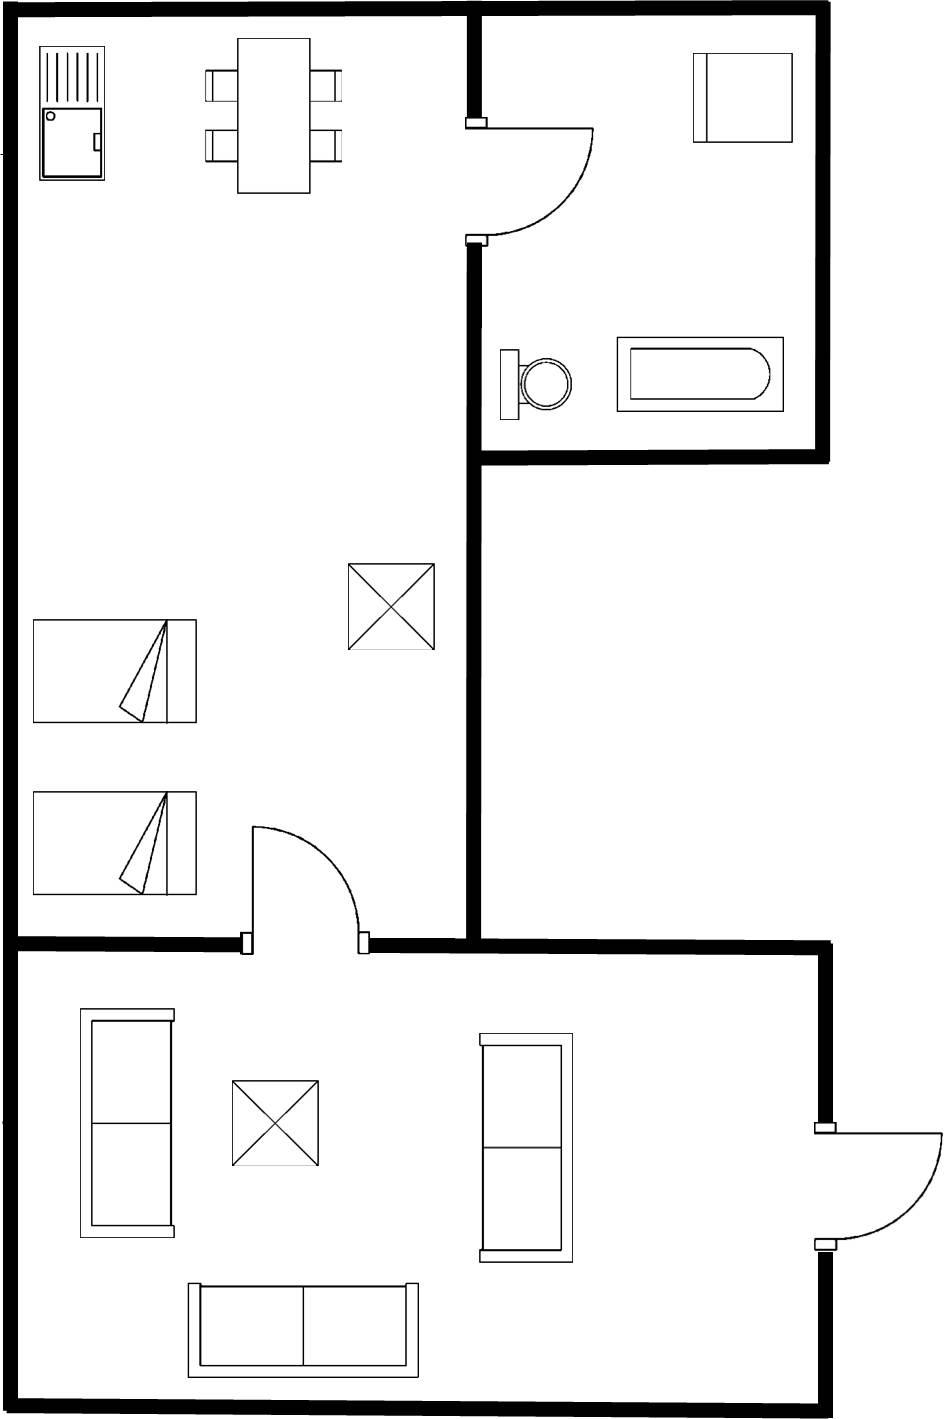bed: (24, 780, 206, 902), (25, 609, 203, 731)
dining_table: (197, 29, 350, 201)
sink: (28, 35, 114, 190)
sofa: (65, 998, 185, 1245), (470, 1024, 582, 1274), (177, 1274, 425, 1384)
toilet: (490, 340, 574, 427)
tub: (607, 327, 789, 416)
